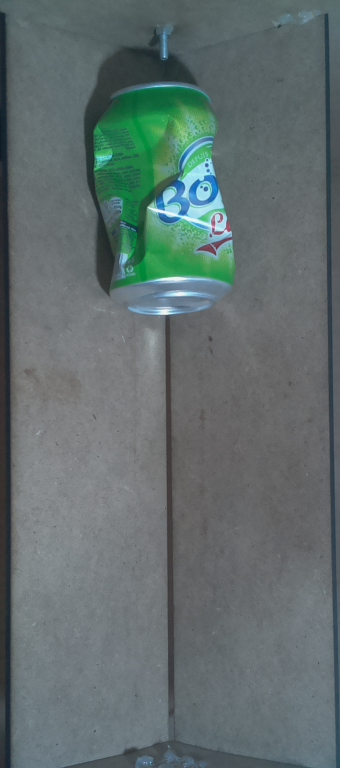Canette: (81, 72, 251, 322)
